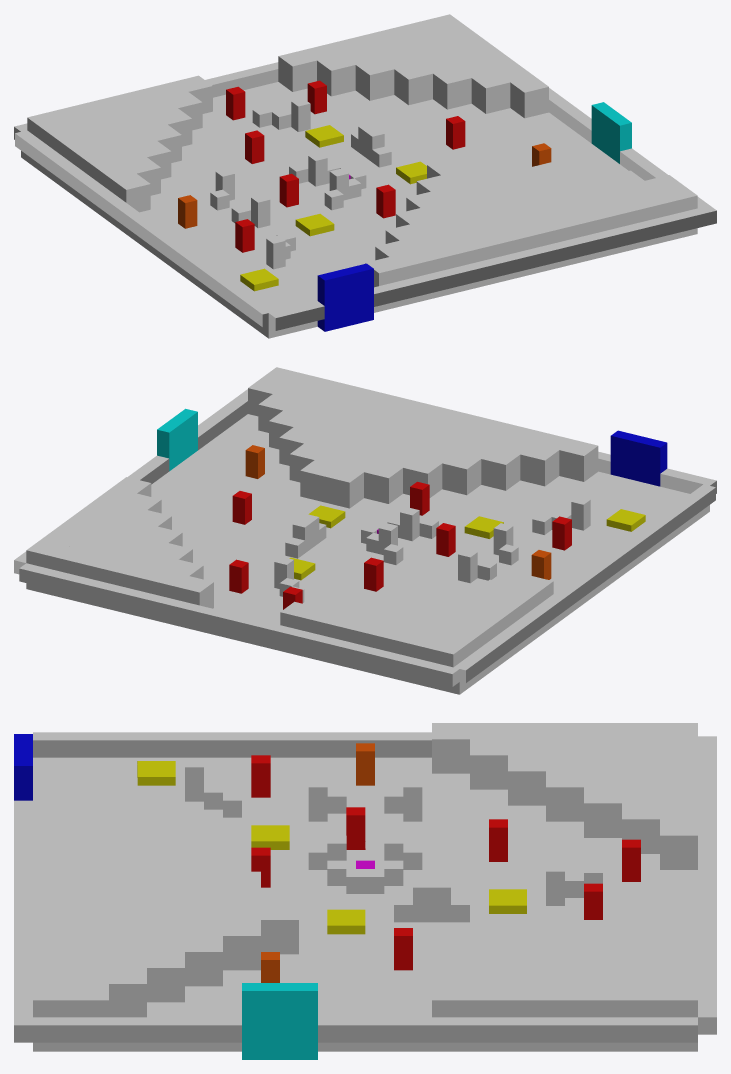
File: level1_B2V2C_35.fbx
3 views of the same model, one above another, from view 1: azimuth 30°, elevation 25°; view 2: azimuth 150°, elevation 25°; view 3: azimuth 270°, elevation 25° (orthographic). The views are drawn at different scales.
Visible parts, largest first — view 1: pCube126, pCube5, pCube4, Trap2, Trap3, Trap1, Stormtrooper3, Stormtrooper2, Stormtrooper1, Stormtrooper4, Blurrg1, Blurrg (+2 smaller); view 2: pCube126, pCube5, pCube4, Trap3, Stormtrooper, Blurrg1, Stormtrooper4, Stormtrooper3, Antena2, Blurrg, Stormtrooper2, Antena1 (+1 smaller); view 3: pCube126, pCube4, pCube5, Trap, Trap3, Trap1, Trap2, Stormtrooper4, Stormtrooper3, Stormtrooper1, Blurrg1, Blurrg (+4 smaller).
Part boxes in pixels (left/top/right/bottom): pCube126: left=14, top=14, right=716, bottom=338; pCube5: left=317, top=263, right=373, bottom=331; pCube4: left=591, top=102, right=631, bottom=163; Trap2: left=295, top=213, right=334, bottom=236; Trap3: left=240, top=268, right=278, bottom=291; Trap1: left=305, top=125, right=343, bottom=147; Stormtrooper3: left=235, top=219, right=254, bottom=252; Stormtrooper2: left=376, top=184, right=395, bottom=218; Stormtrooper1: left=226, top=86, right=245, bottom=120; Stormtrooper4: left=279, top=173, right=298, bottom=207; Blurrg1: left=245, top=130, right=264, bottom=163; Blurrg: left=446, top=116, right=465, bottom=149; pCube126: left=14, top=367, right=716, bottom=694; pCube5: left=610, top=430, right=667, bottom=486; pCube4: left=157, top=408, right=197, bottom=471; Trap3: left=606, top=509, right=645, bottom=531; Stormtrooper: left=229, top=559, right=248, bottom=593; Blurrg1: left=364, top=557, right=383, bottom=591; Stormtrooper4: left=436, top=523, right=455, bottom=556; Stormtrooper3: left=552, top=516, right=571, bottom=550; Antena2: left=245, top=445, right=264, bottom=478; Blurrg: left=232, top=491, right=251, bottom=524; Stormtrooper2: left=410, top=481, right=429, bottom=515; Antena1: left=531, top=550, right=551, bottom=579; pCube126: left=14, top=723, right=716, bottom=1051; pCube4: left=242, top=983, right=317, bottom=1059; pCube5: left=14, top=734, right=32, bottom=800; Trap: left=327, top=909, right=365, bottom=934; Trap3: left=137, top=761, right=175, bottom=785; Trap1: left=489, top=889, right=526, bottom=913; Trap2: left=251, top=825, right=289, bottom=849; Stormtrooper4: left=346, top=807, right=365, bottom=849; Stormtrooper3: left=251, top=755, right=270, bottom=797; Stormtrooper1: left=622, top=839, right=640, bottom=881; Blurrg1: left=489, top=819, right=507, bottom=861; Blurrg: left=394, top=928, right=412, bottom=970.
Size of the model in its own units: 1437 by 177 by 1457.
